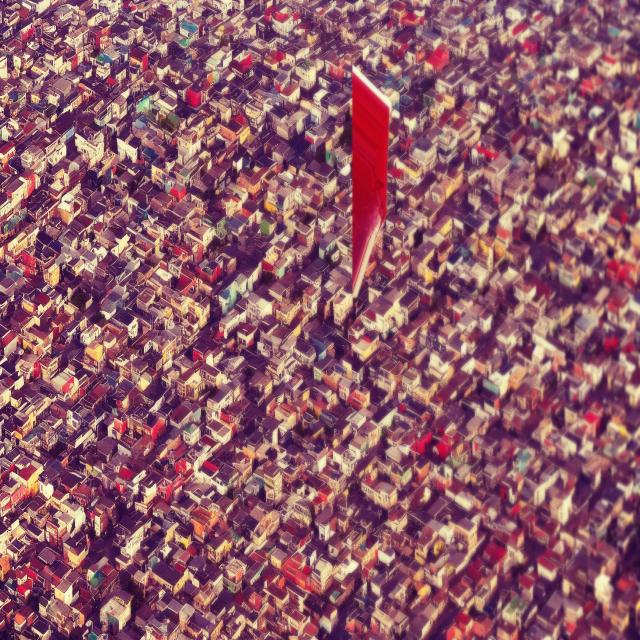airplane: (352, 63, 390, 299)
